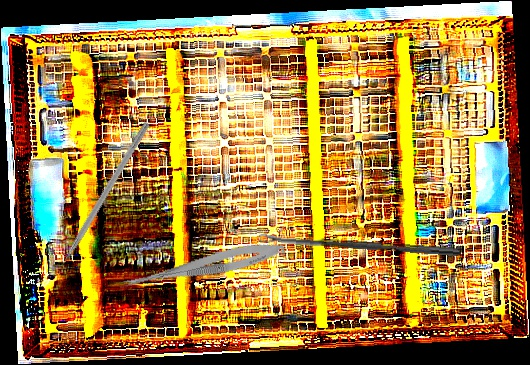Chopper: (45, 116, 151, 278)
Micro Scissor: (117, 236, 287, 299)
Surgical Spoon: (258, 232, 462, 257)
